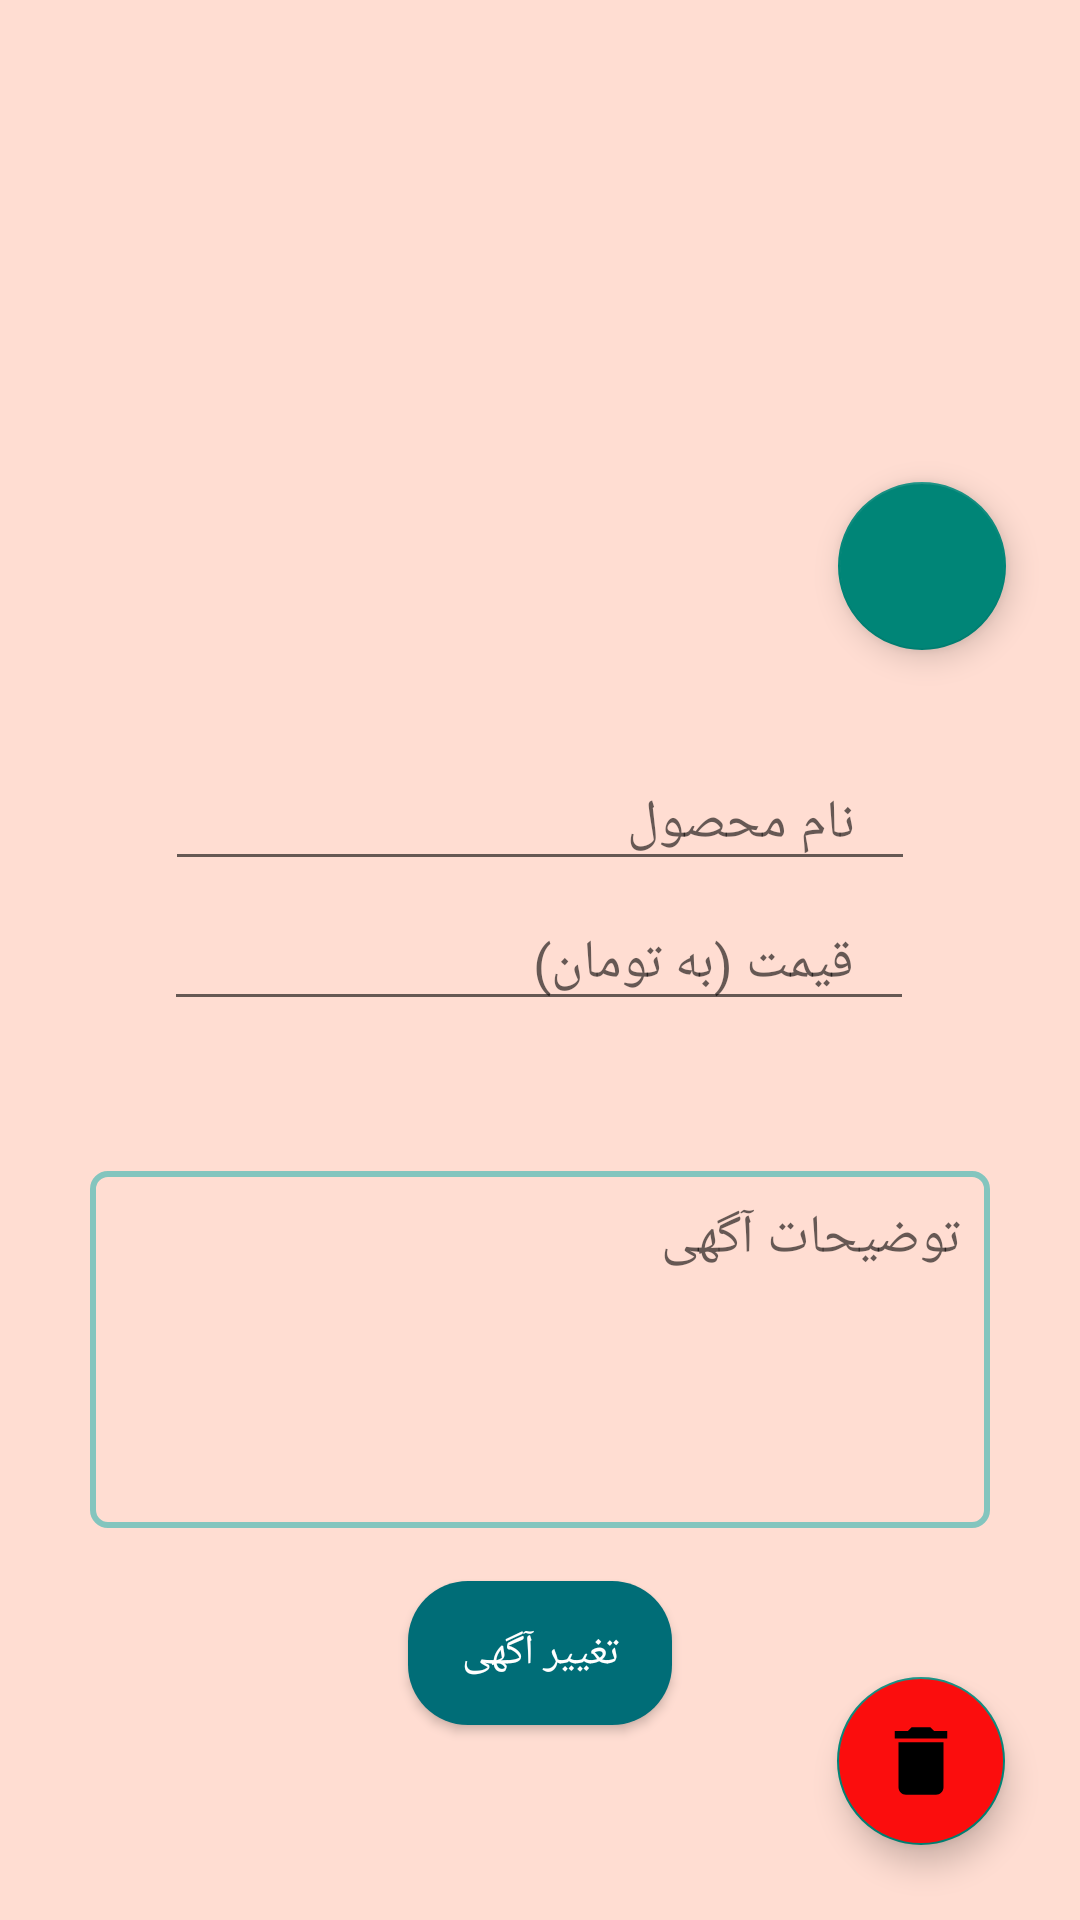

Icon bounding boxes for this 1080 x 1920 phone screenshot, format (x1, y1, x2, y2):
delete: (837, 1677, 1005, 1845)
